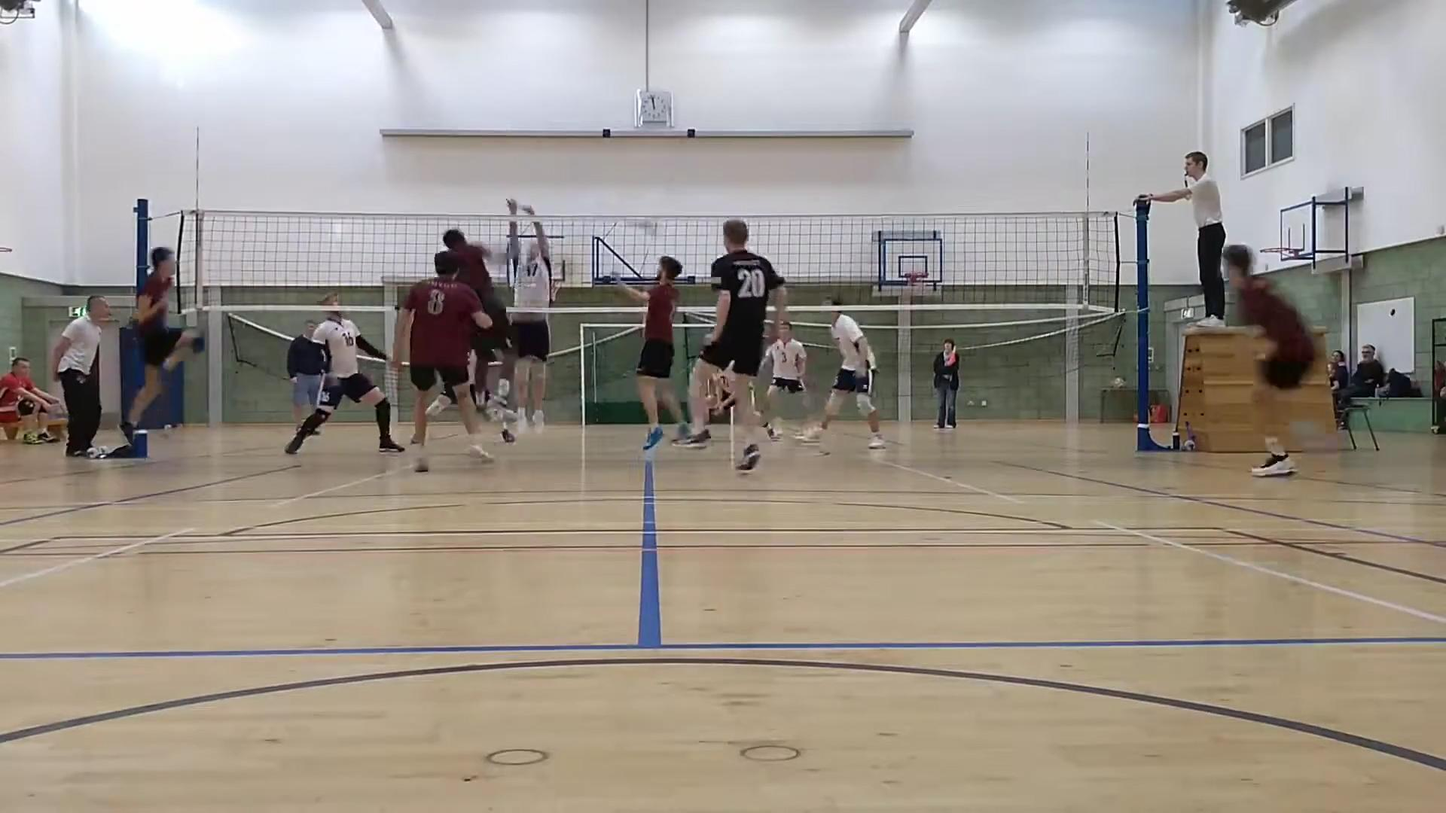Attack: (433, 228, 521, 370)
Block: (495, 186, 561, 442)
Player: (682, 220, 787, 470), (1222, 245, 1316, 477), (391, 251, 490, 471), (285, 294, 404, 454), (120, 247, 203, 441), (622, 256, 688, 449), (801, 298, 885, 449), (761, 323, 809, 440), (703, 370, 737, 416)
